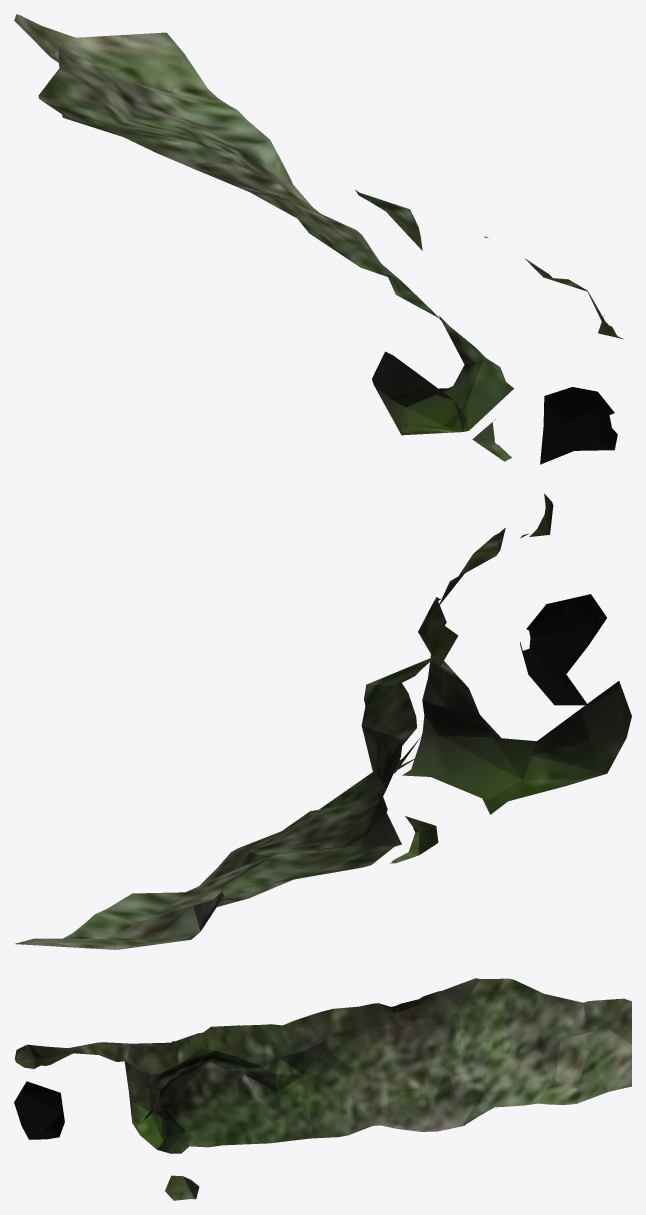
The picture shows the model from 3 angles, top to bottom: view 1: azimuth 30°, elevation 25°; view 2: azimuth 150°, elevation 25°; view 3: azimuth 270°, elevation 25°; orthographic projection. The views are drawn at different scales.
Bounding box in the file's own units: 1.36 × 1.34 × 4.94.
1 material, 1 textured.
